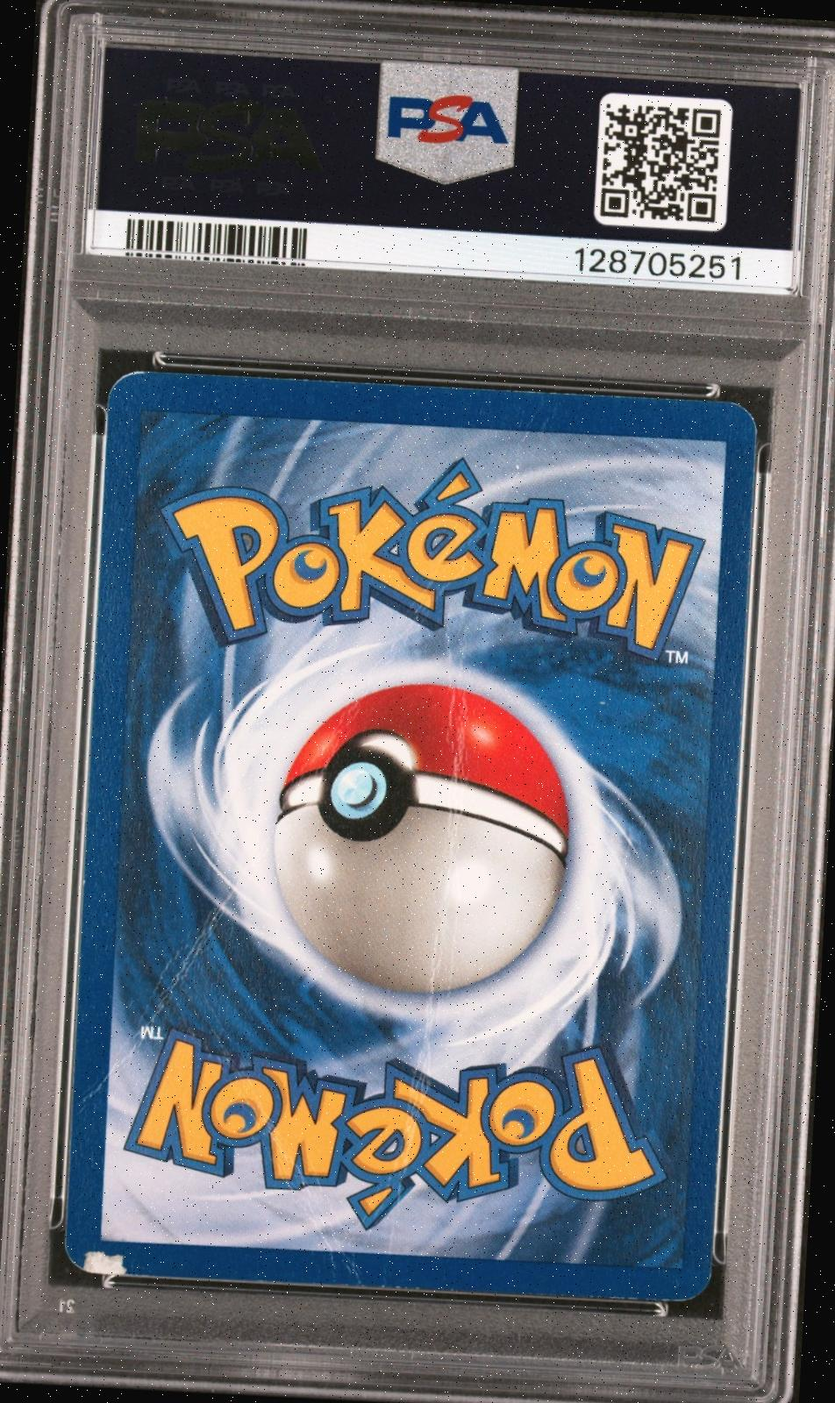card-2UtV: (64, 369, 758, 1302)
